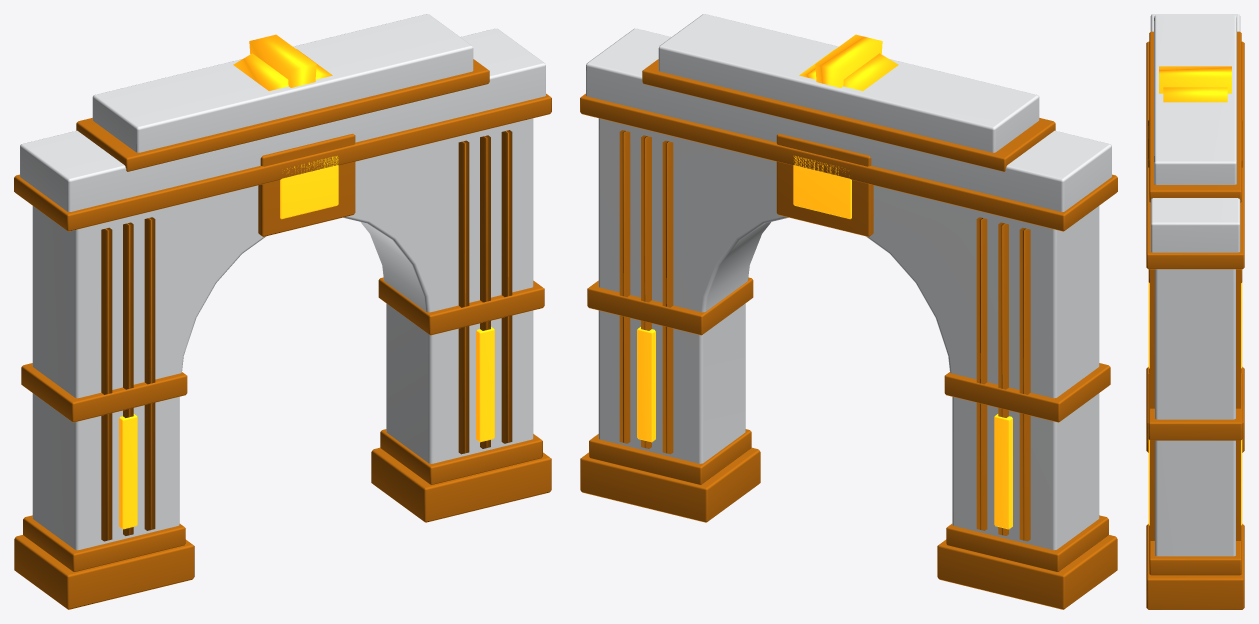
File: monopoly_archway_artdeco.glb
3 views of the same model, side by side, from view 1: azimuth 30°, elevation 25°; view 2: azimuth 150°, elevation 25°; view 3: azimuth 270°, elevation 25° (orthographic). The views are drawn at different scales.
Parts seen in each view (by area): view 1: MonopolyArtDecoArchway; view 2: MonopolyArtDecoArchway; view 3: MonopolyArtDecoArchway.
Part boxes in pixels (bbox=[...]): MonopolyArtDecoArchway: bbox=[14, 14, 551, 609]; MonopolyArtDecoArchway: bbox=[580, 14, 1117, 609]; MonopolyArtDecoArchway: bbox=[1146, 14, 1244, 609].
Bounding box in the file's own units: 0.72 × 0.68 × 0.14.
